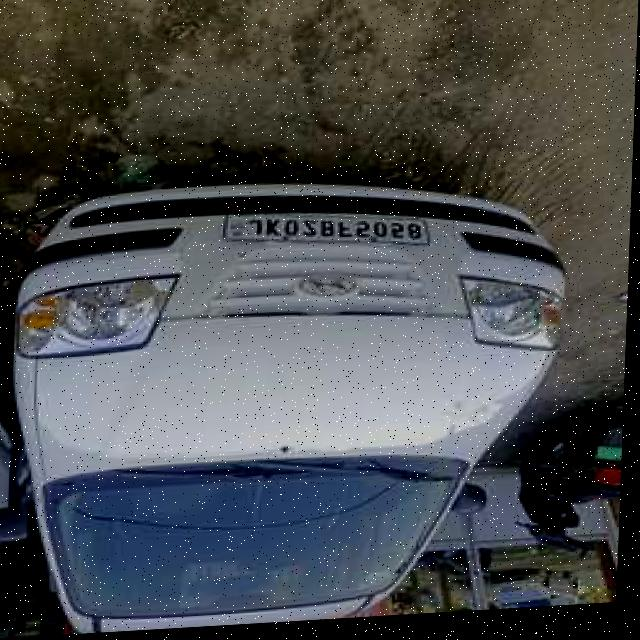plate: (224, 204, 433, 260)
